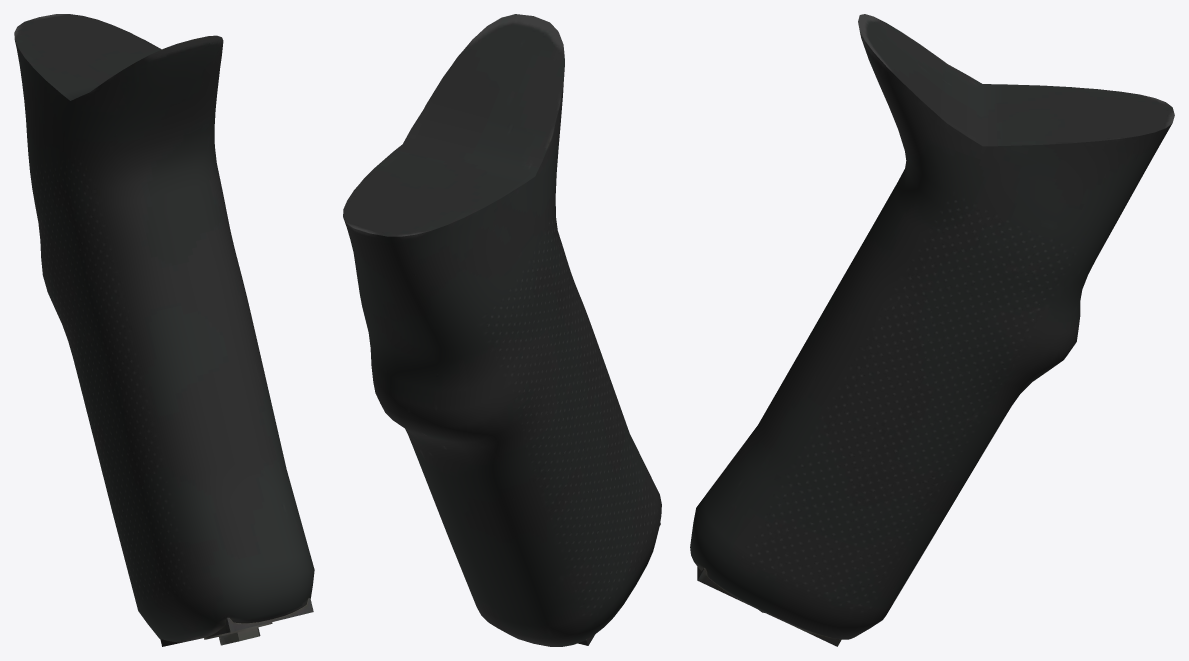
Rendered from punho_ar.glb.
3 views of the same model, side by side, from view 1: azimuth 30°, elevation 25°; view 2: azimuth 150°, elevation 25°; view 3: azimuth 270°, elevation 25° (orthographic). The views are drawn at different scales.
Visible parts, largest first — view 1: punho_ar_punho; view 2: punho_ar_punho; view 3: punho_ar_punho.
Part boxes in pixels (x1,y1,x2,y2): punho_ar_punho: (14, 14, 314, 646); punho_ar_punho: (343, 14, 661, 646); punho_ar_punho: (690, 14, 1174, 646).
Size of the model in its own units: 0.0286 by 0.1141 by 0.0828.
1 material, 1 textured.
